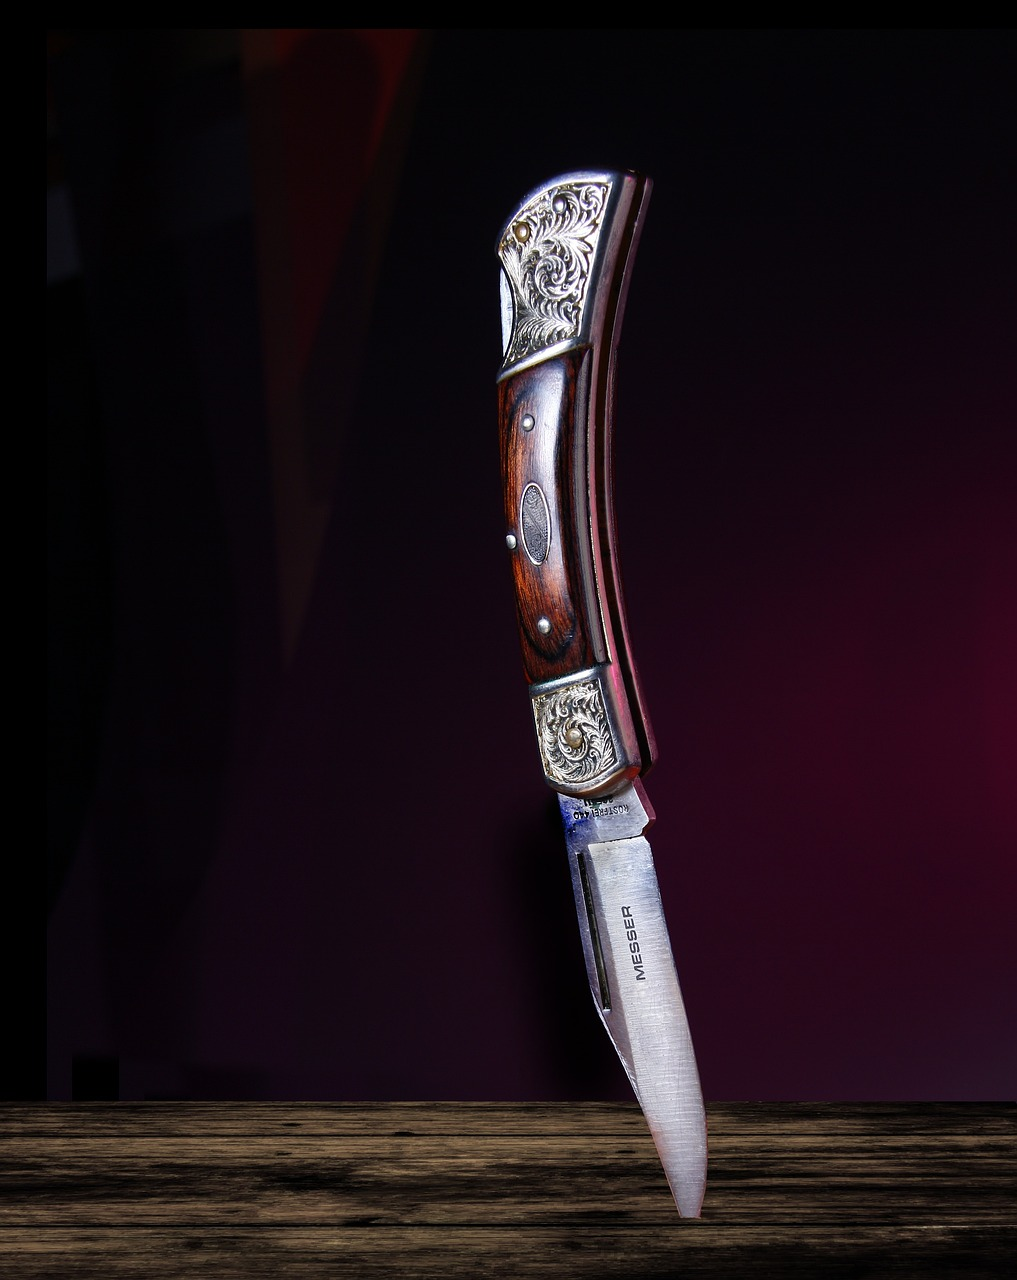knife: (484, 158, 716, 1226)
